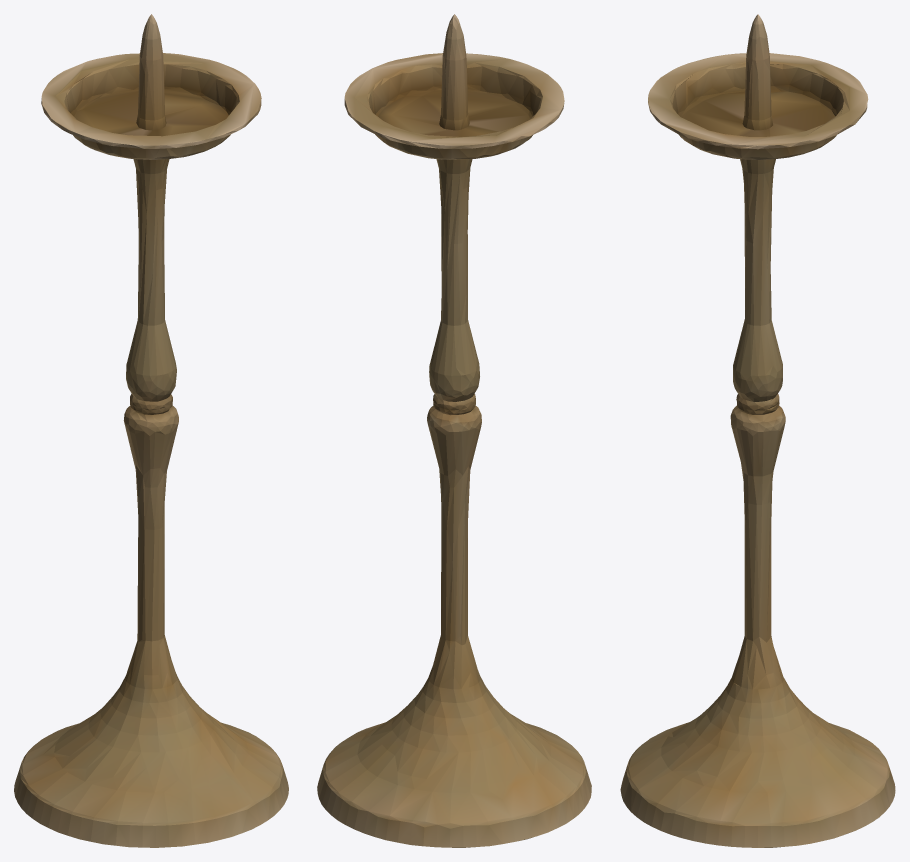
The model's file is unhyun_candlestick_01_a7259200.glb.
The picture shows the model from 3 angles, left to right: view 1: azimuth 30°, elevation 25°; view 2: azimuth 150°, elevation 25°; view 3: azimuth 270°, elevation 25°; orthographic projection.
Visible parts, largest first — view 1: SM_Candlestick128_M_Candlestick128_0; view 2: SM_Candlestick128_M_Candlestick128_0; view 3: SM_Candlestick128_M_Candlestick128_0.
Part boxes in pixels (x1,y1,x2,y2): SM_Candlestick128_M_Candlestick128_0: (14,14,288,847); SM_Candlestick128_M_Candlestick128_0: (317,14,591,847); SM_Candlestick128_M_Candlestick128_0: (620,14,895,847).
Size of the model in its own units: 0.1282 by 0.3992 by 0.1282.
